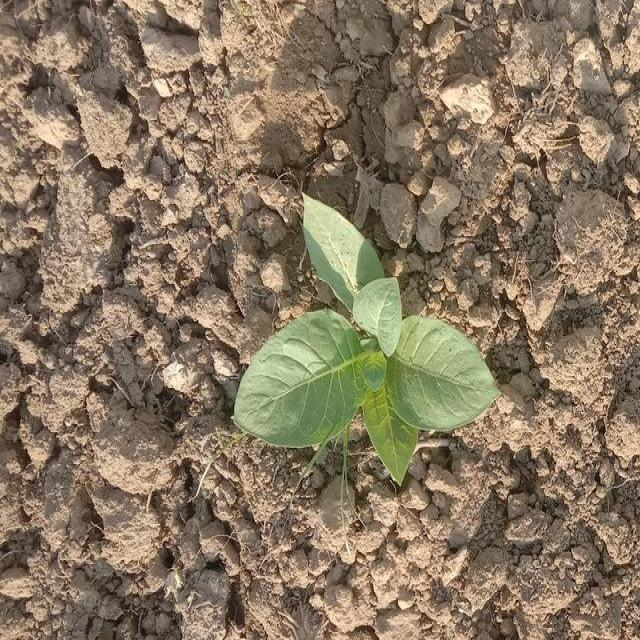crop: (230, 190, 503, 488)
